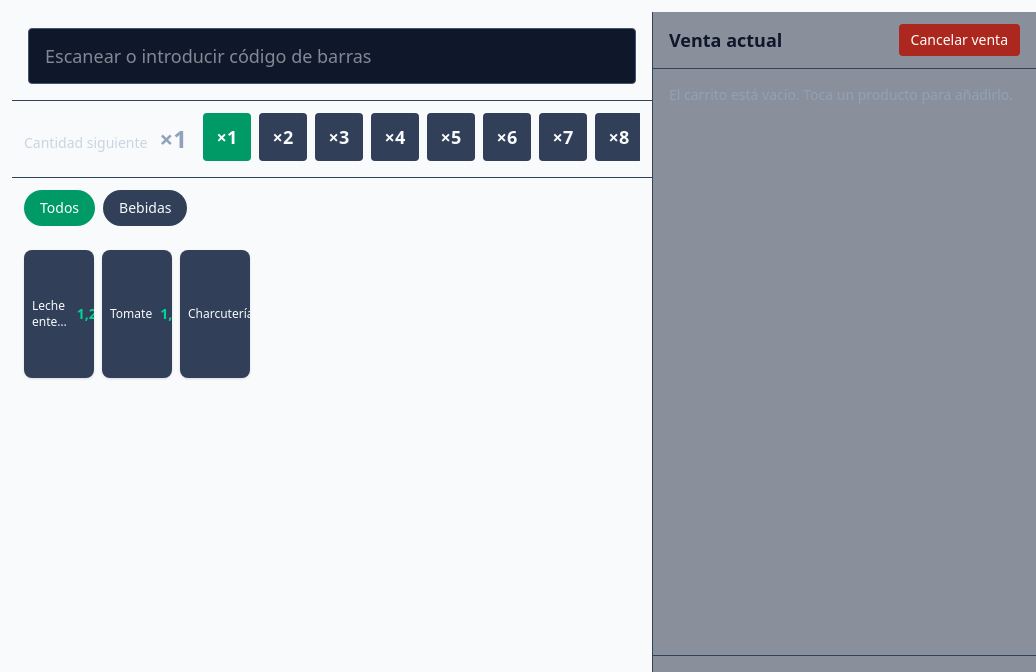
Test: PosHomePage › leaves the cart unchanged and clears an unknown barcode for the next scan
This screenshot has width=1036, height=672.
Type "NO-EXISTE" into the field with placeholder "Escanear o introducir código de barras" at {"x": 332, "y": 56}, box [28,28,636,84]
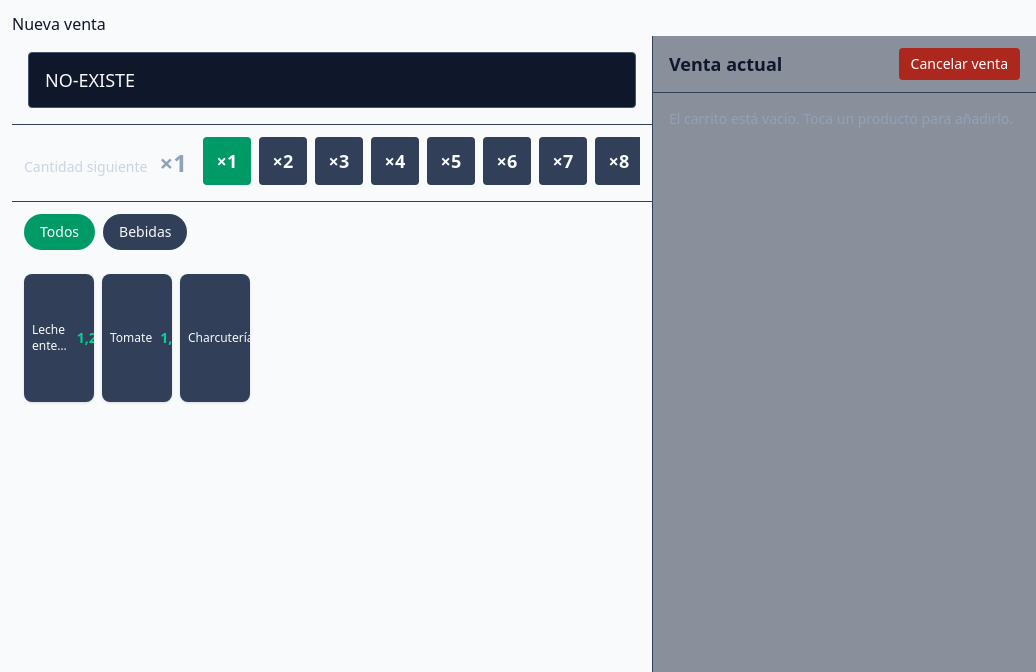
Submit the form with placeholder "Escanear o introducir código de barras", box [12,36,652,125]
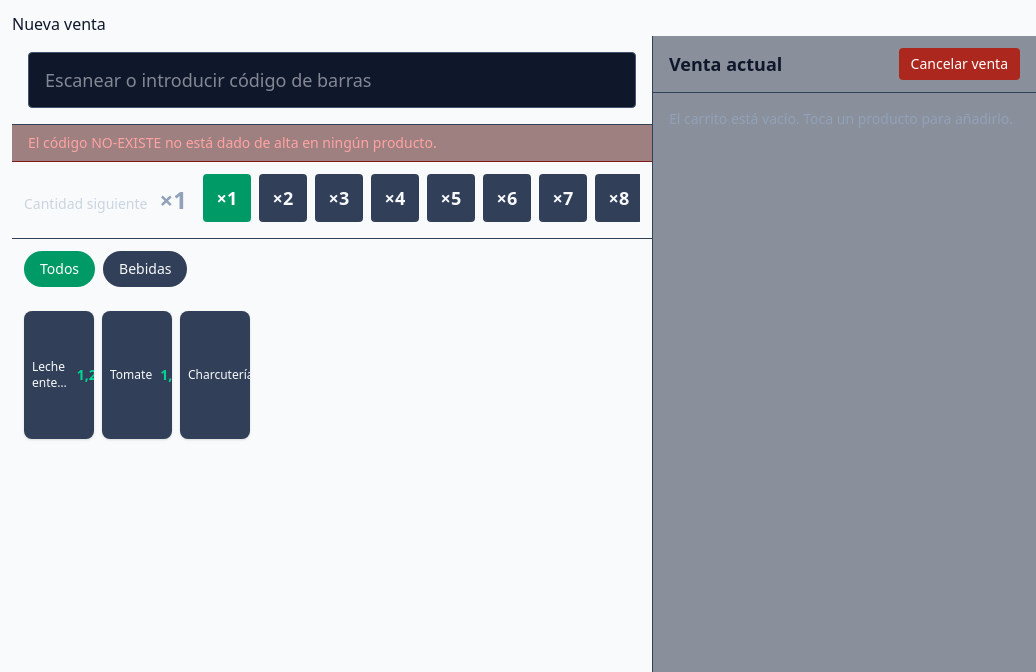
expect the field with placeholder "Escanear o introducir código de barras" is enabled: met, box [28,52,636,108]
expect the message reads "El código NO-EXISTE no está dado de alta en ningún producto.": met, box [28,133,437,152]
expect the field with placeholder "Escanear o introducir código de barras" is empty: met, box [28,52,636,108]
